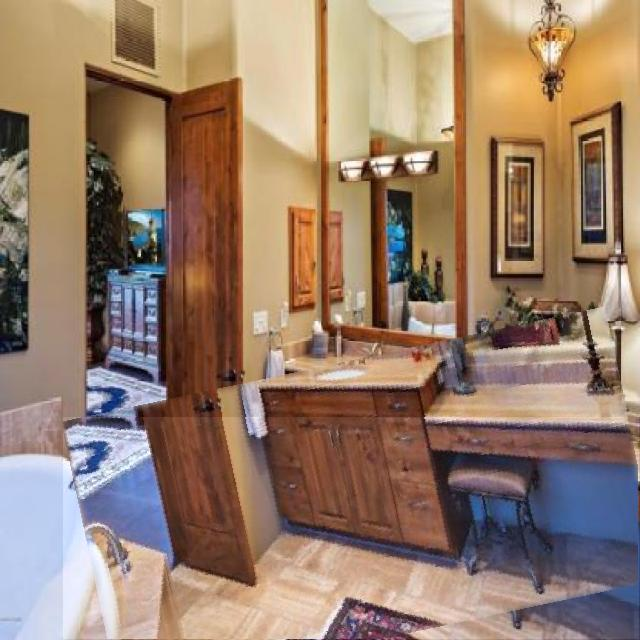floor: (64, 418, 639, 640)
